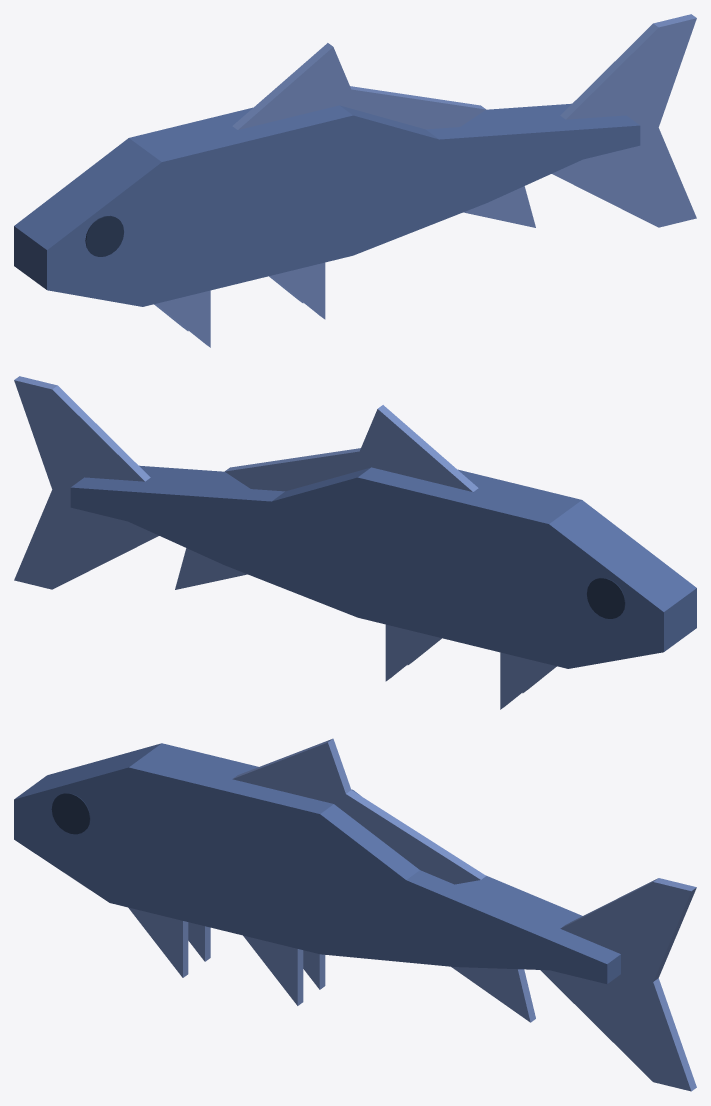
The model's file is FISH.fbx.
3 views of the same model, one above another, from view 1: azimuth 30°, elevation 25°; view 2: azimuth 150°, elevation 25°; view 3: azimuth 330°, elevation 25° (orthographic).
Parts seen in each view (by area): view 1: Fish; view 2: Fish; view 3: Fish.
Part boxes in pixels (<box>): Fish: <box>14,14,696,347</box>; Fish: <box>14,376,696,709</box>; Fish: <box>14,738,696,1091</box>.
Bounding box in the file's own units: 347 × 130 × 31.
